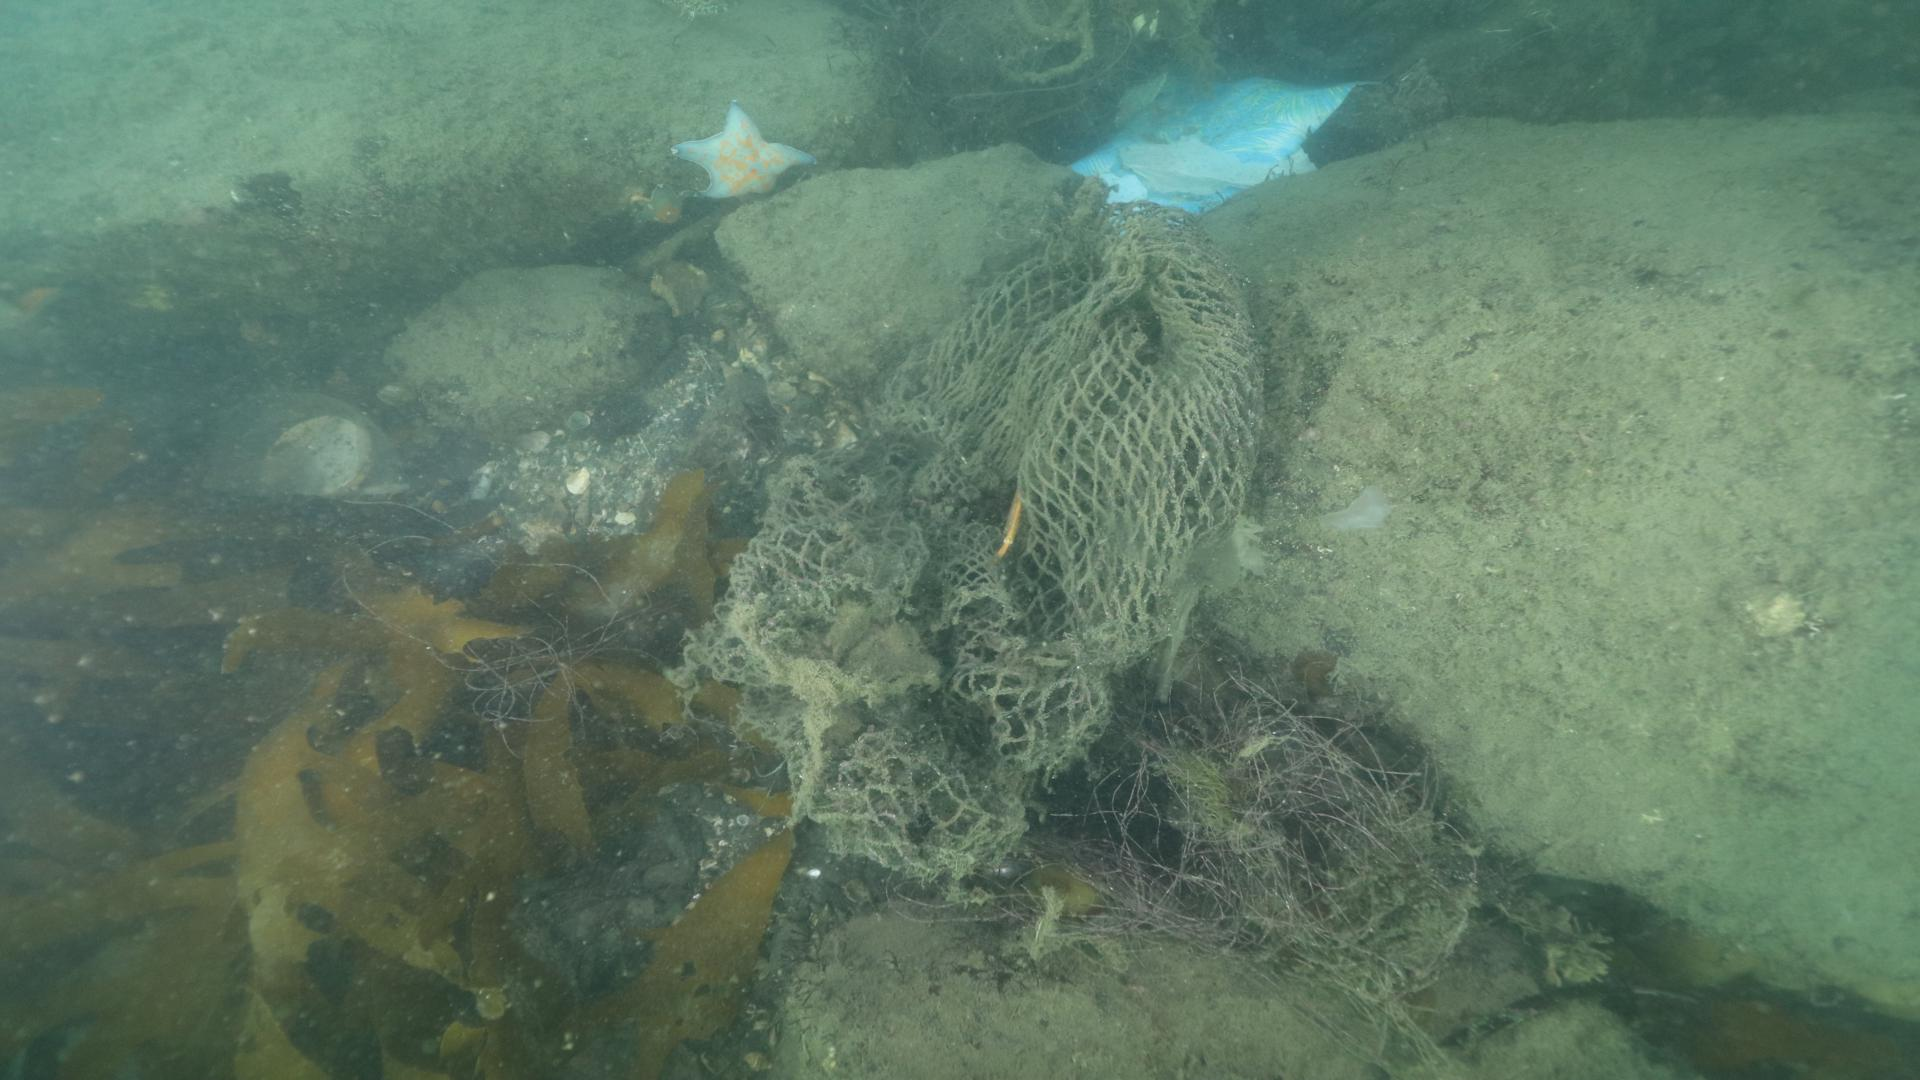fish net: (691, 198, 1263, 865)
